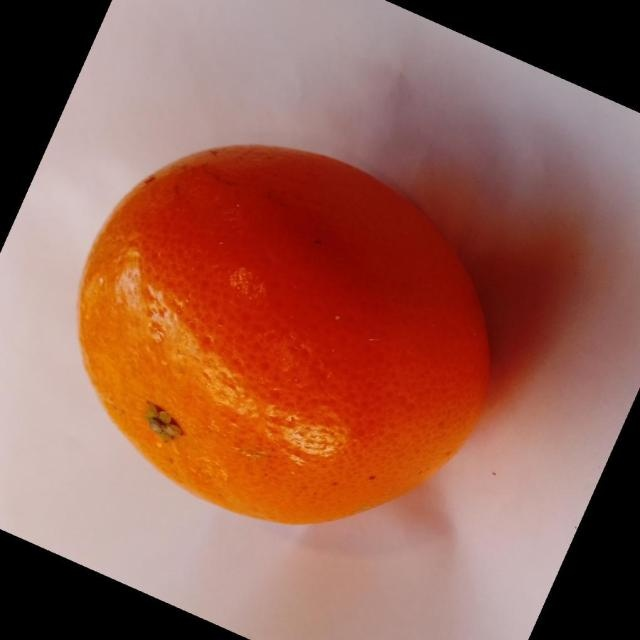agrume: (76, 142, 492, 526)
